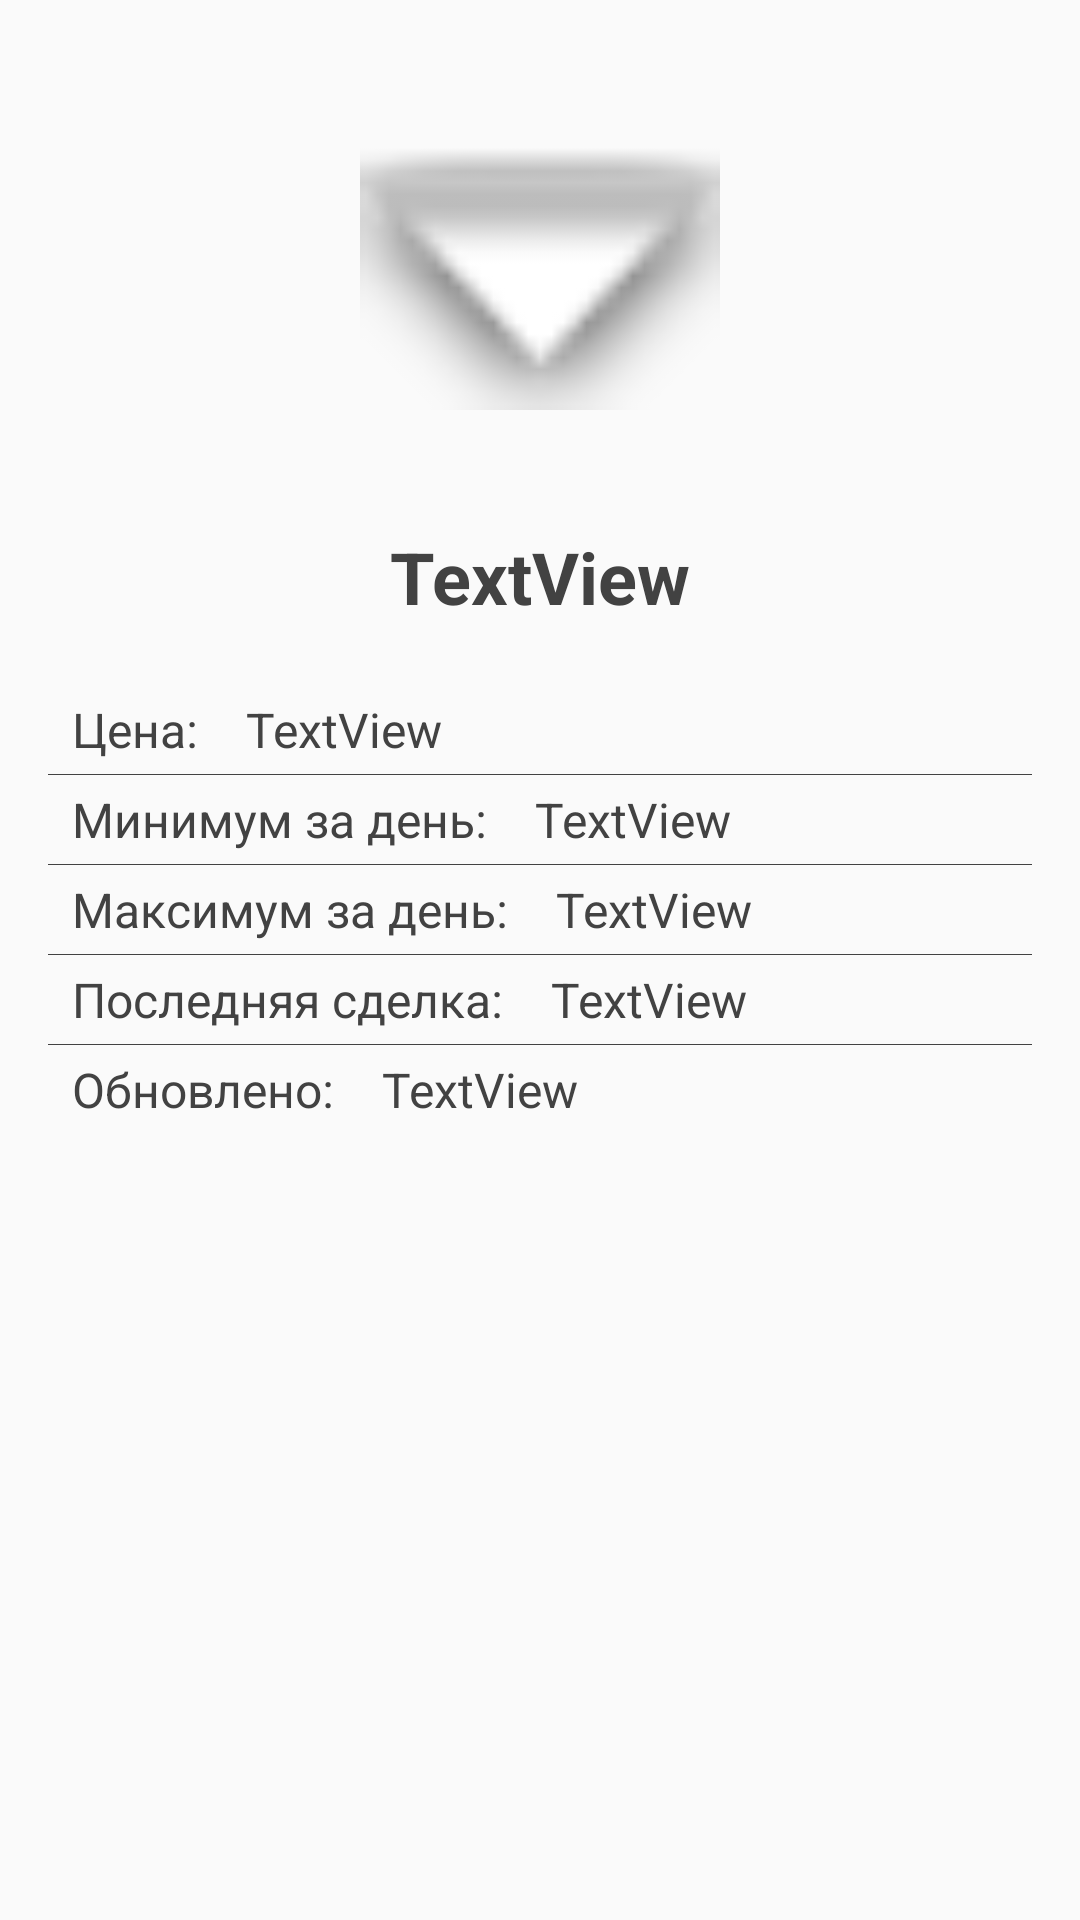

Icon click points for this 1080px x 1920px phone screenshot, format [x,y]:
arrow down float: [540,279]
